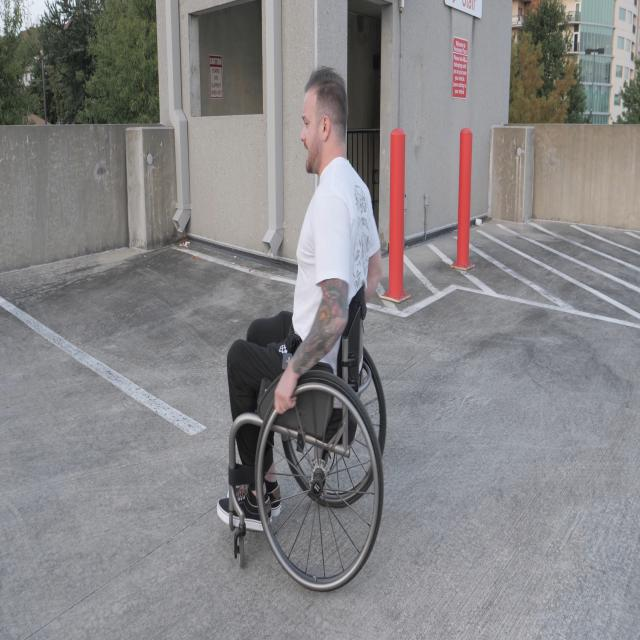wheelchairs: (225, 280, 389, 591)
